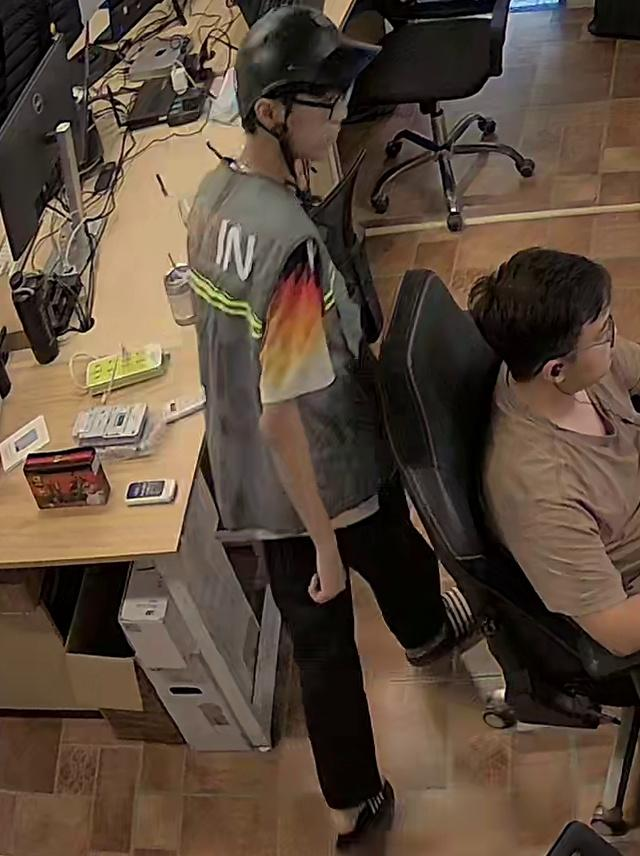helmet: (235, 6, 364, 124)
no_helmet: (470, 247, 607, 380)
none: (482, 341, 633, 639)
vest: (184, 157, 388, 533)
